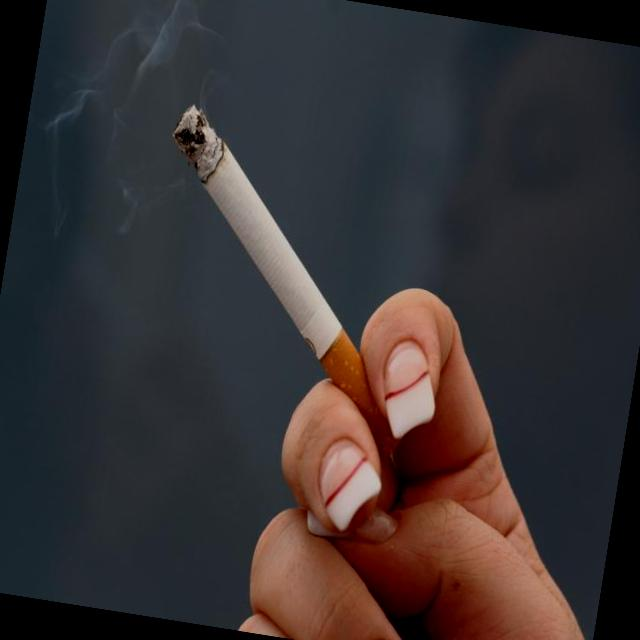cigarette: (118, 98, 460, 474)
